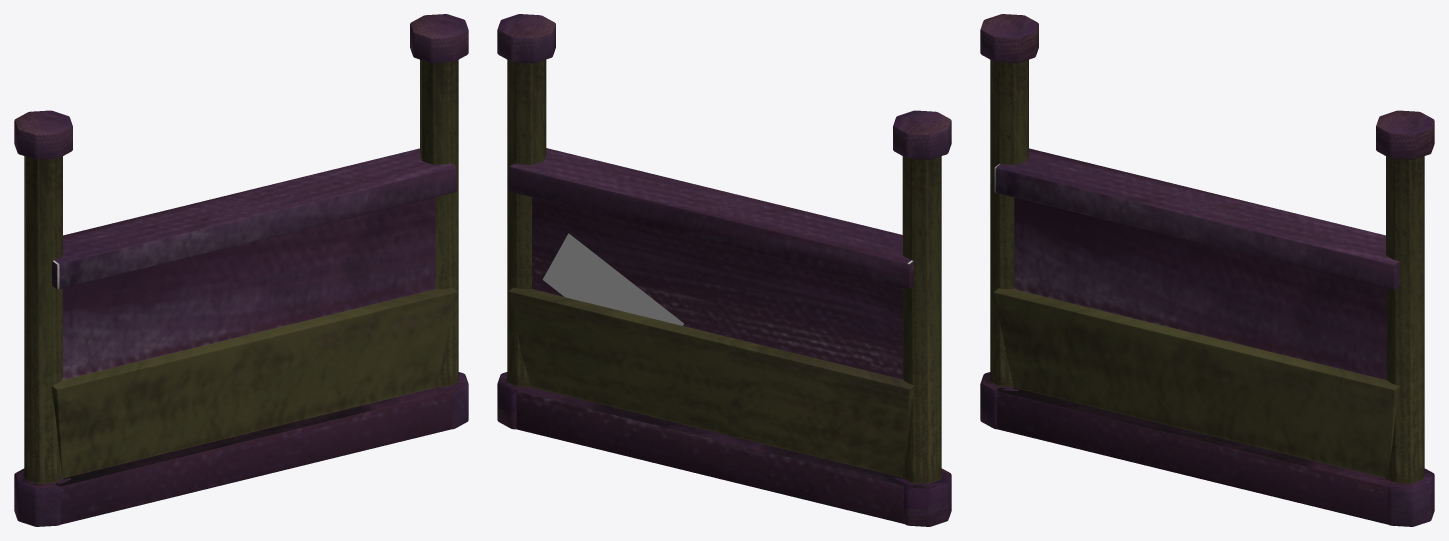
The model's file is MANOR_WALL_3_2_001.obj.
3 renders of one model, left to right at view 1: azimuth 30°, elevation 25°; view 2: azimuth 150°, elevation 25°; view 3: azimuth 330°, elevation 25°, orthographic.
Parts seen in each view (by area): view 1: MANOR_WALL_3_2_001; view 2: MANOR_WALL_3_2_001; view 3: MANOR_WALL_3_2_001.
Boxes of the visible parts, left/top/right/bottom form: MANOR_WALL_3_2_001: left=14, top=14, right=468, bottom=526; MANOR_WALL_3_2_001: left=497, top=14, right=951, bottom=526; MANOR_WALL_3_2_001: left=980, top=14, right=1434, bottom=526.
Bounding box in the file's own units: 3.57 × 3 × 0.4139.
